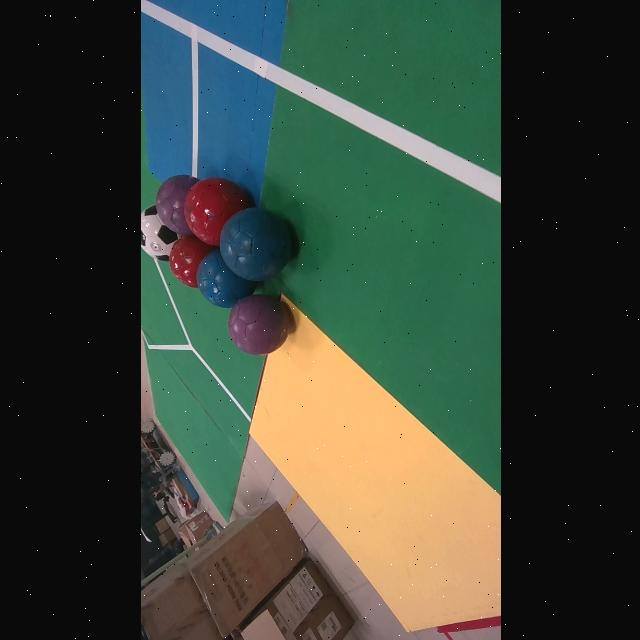B: (219, 207, 292, 280), (195, 249, 255, 308)
P: (228, 295, 292, 355), (155, 175, 197, 236)
R: (182, 177, 249, 246), (168, 236, 216, 288)
